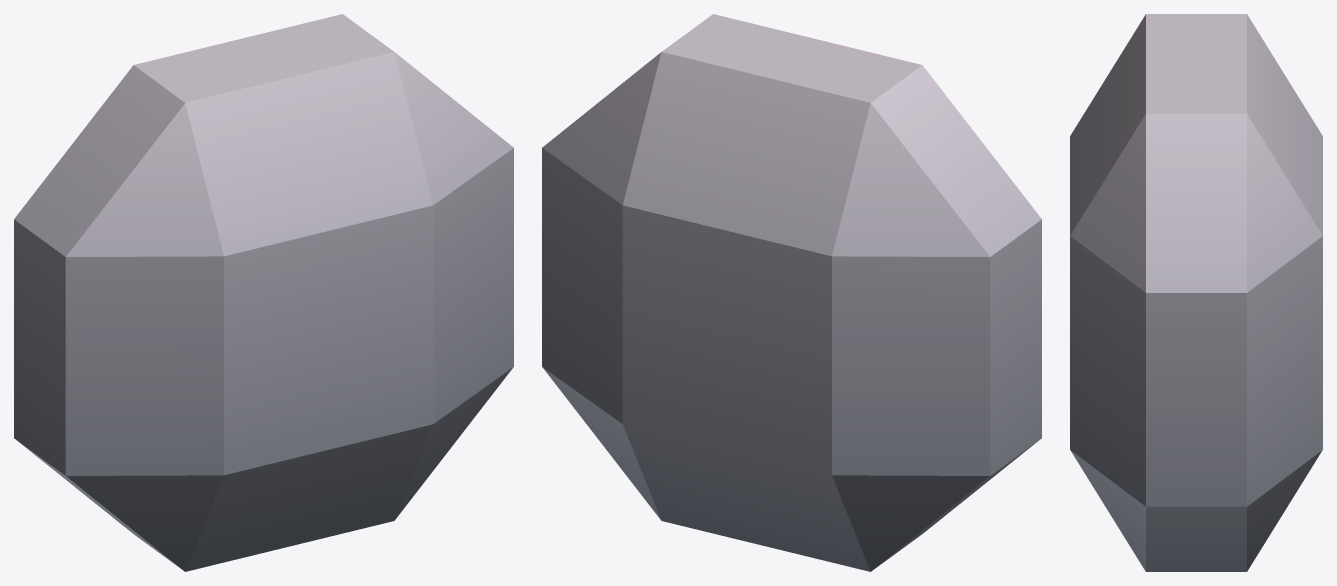
The model's file is Cubie.fbx.
The picture shows the model from 3 angles, left to right: view 1: azimuth 30°, elevation 25°; view 2: azimuth 150°, elevation 25°; view 3: azimuth 270°, elevation 25°; orthographic projection. The views are drawn at different scales.
Parts seen in each view (by area): view 1: Cubie; view 2: Cubie; view 3: Cubie.
Part boxes in pixels (box(x1,y1,x2,y2)): Cubie: box(14, 14, 513, 571); Cubie: box(542, 14, 1041, 571); Cubie: box(1070, 14, 1322, 571).
Size of the model in its own units: 241 by 241 by 121.
